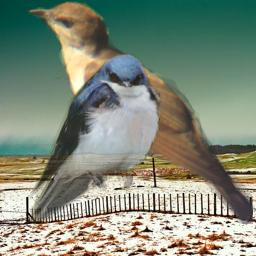Cuckoo: (27, 1, 253, 224)
Swallow: (26, 52, 163, 222)
